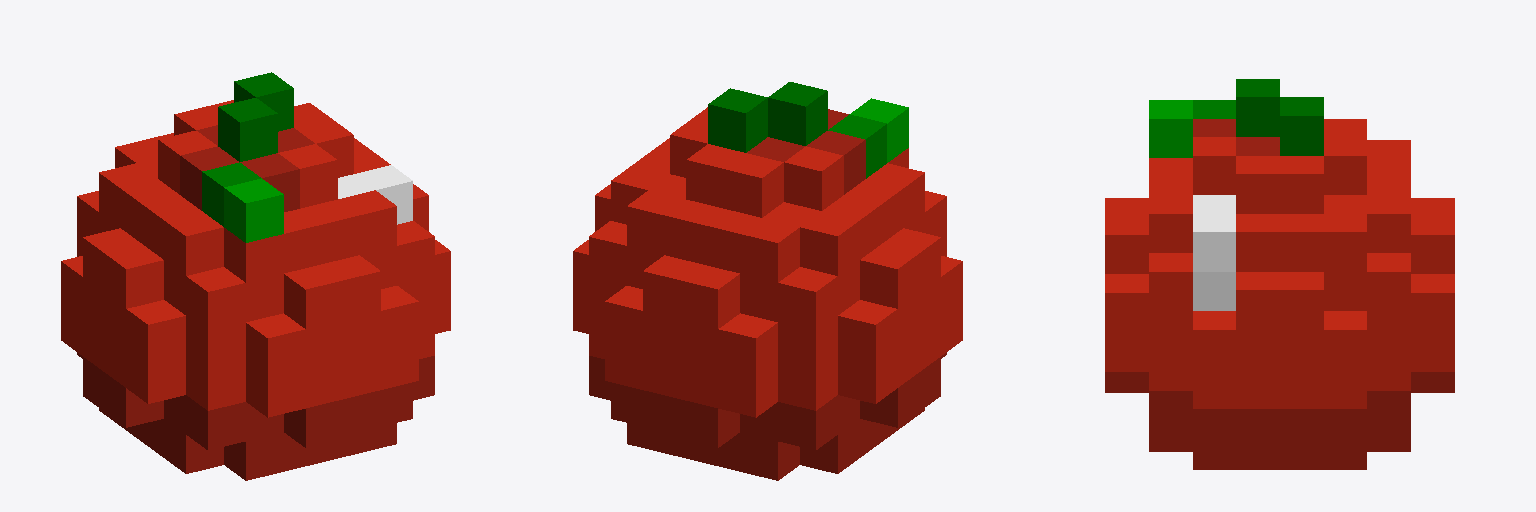
3 views of the same model, side by side, from view 1: azimuth 30°, elevation 25°; view 2: azimuth 150°, elevation 25°; view 3: azimuth 270°, elevation 25° (orthographic).
Visible parts, largest first — view 1: object 1; view 2: object 1; view 3: object 1.
Part boxes in pixels (bbox=[...]): object 1: bbox=[61, 72, 450, 480]; object 1: bbox=[573, 82, 962, 480]; object 1: bbox=[1105, 79, 1454, 469].
Size of the model in its own units: 0.8 by 0.8 by 0.8.
1 materials, 1 textured.